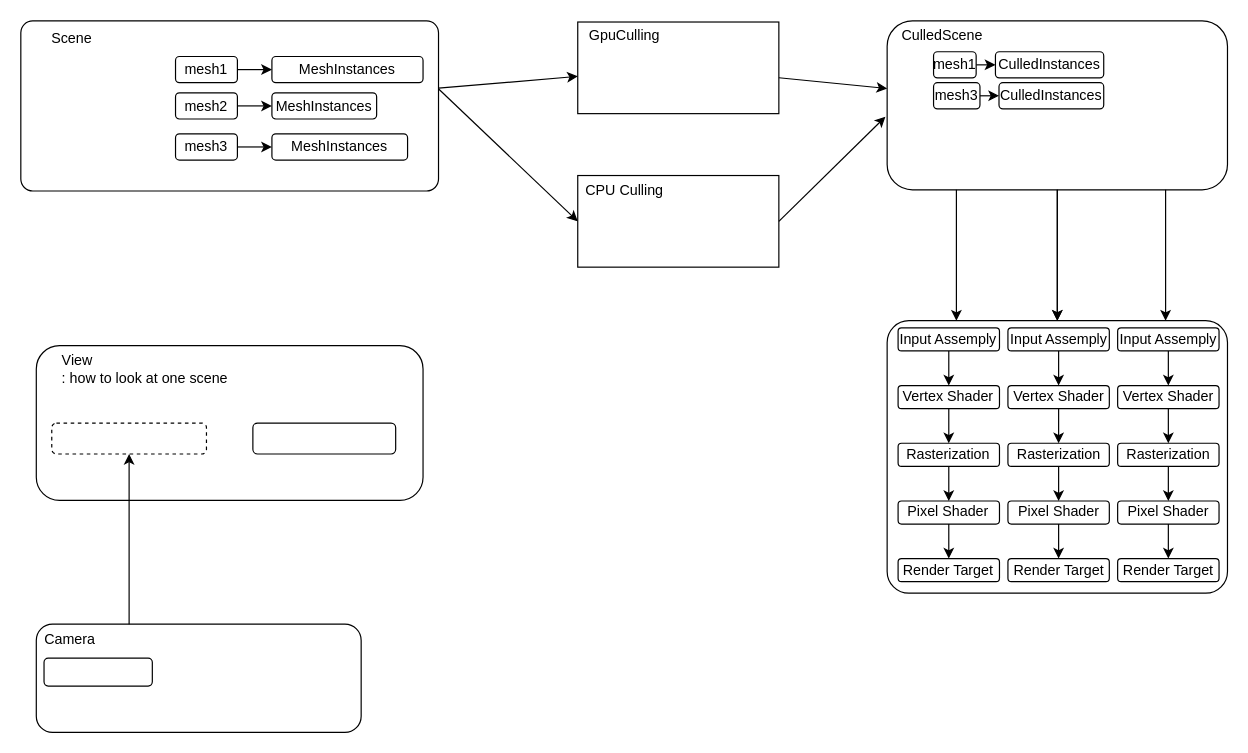
The diagram is 1248 pixels wide and 753 high, and some of its shapes have lost their labels. The centre of each missing label's shape, as x and y in pixels:
Abstract View Layer Definition: point 324,438
From A CamDirection: point 128,438
View projection: point 97,671
